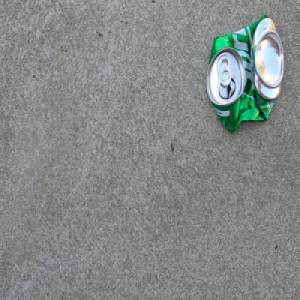SodaCan: (206, 12, 284, 133)
